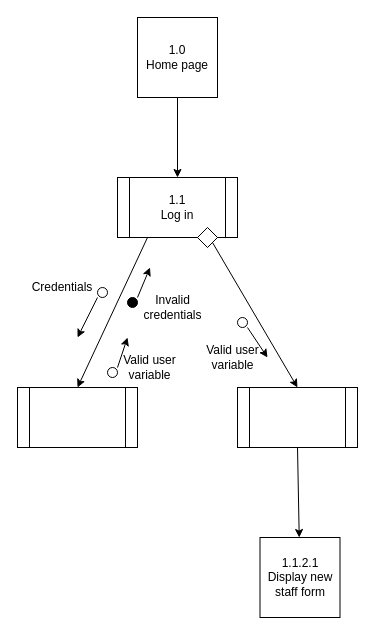
Some shapes in this 375 by 635 pixel diagram are drawn without their labels. Each missing label, with the box of its shape:
1.1.1 Validate credentials: (16, 386, 138, 448)
1.1.2 Display landing page: (236, 386, 358, 448)
